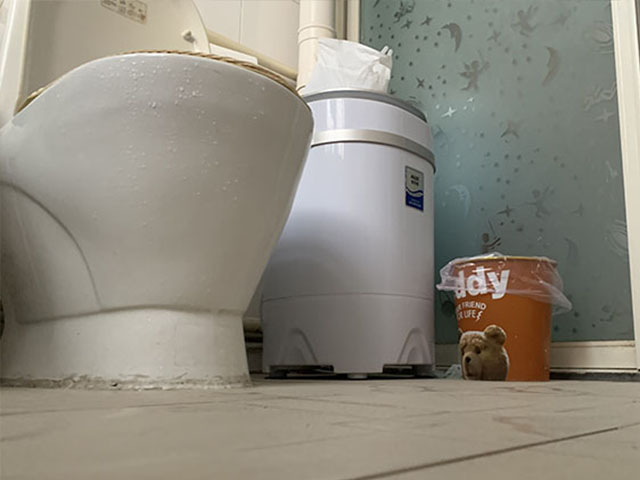closestool: (1, 1, 320, 393)
trashcan: (438, 250, 560, 384)
